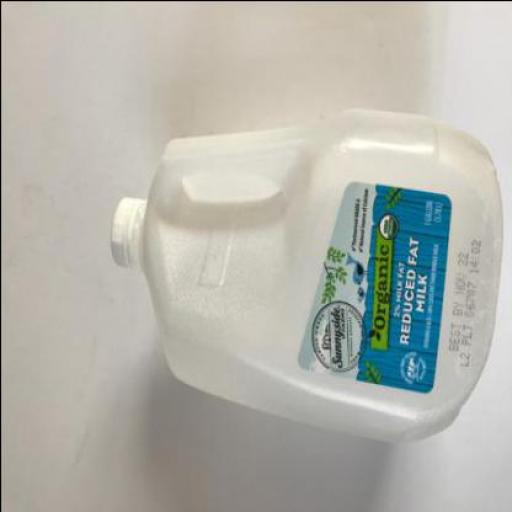plastic: (109, 104, 501, 442), (109, 194, 143, 266)
